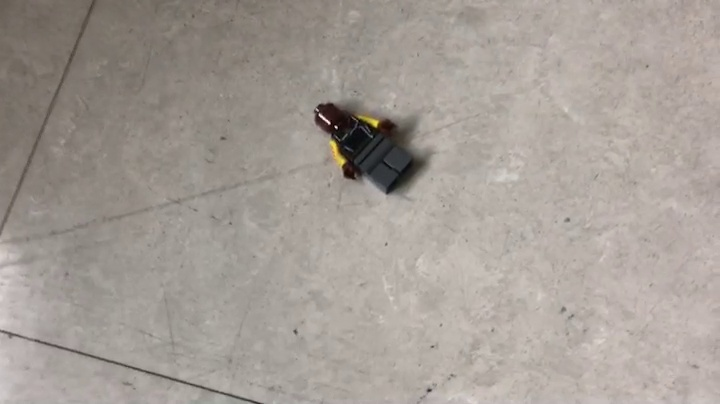people: (312, 102, 420, 199)
